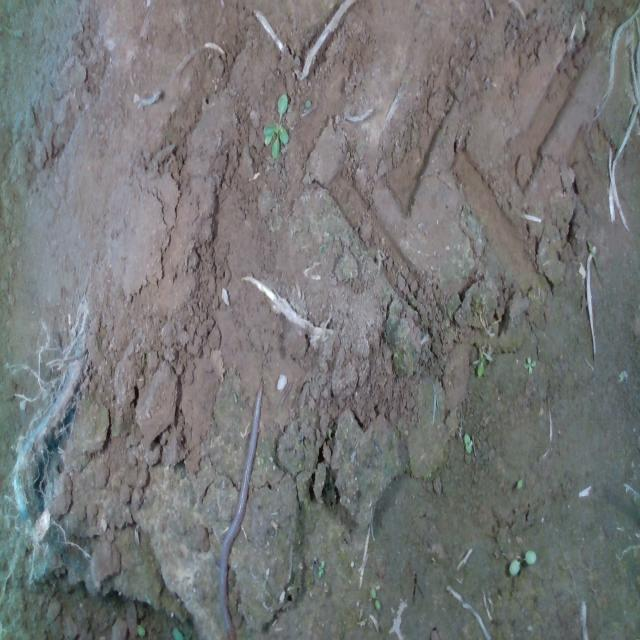weed: (508, 548, 536, 576), (369, 586, 381, 612), (522, 355, 536, 374), (462, 431, 472, 455), (316, 559, 324, 579)
